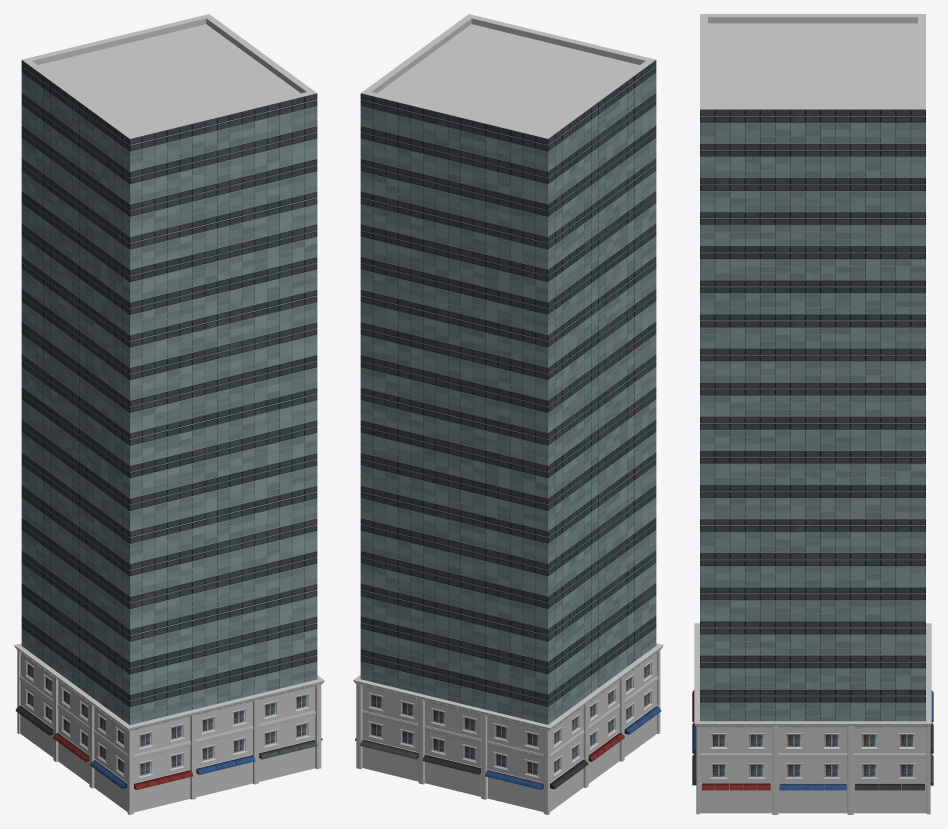
Rendered from High RIse Building 37.fbx.
The picture shows the model from 3 angles, left to right: view 1: azimuth 30°, elevation 25°; view 2: azimuth 150°, elevation 25°; view 3: azimuth 270°, elevation 25°; orthographic projection. The views are drawn at different scales.
Parts seen in each view (by area): view 1: Top, Part_1, Part_2, Base; view 2: Top, Part_1, Part_2, Base; view 3: Top, Part_1, Part_2, Base.
Boxes of the visible parts, x1=… form: Top: x1=21, y1=14, x2=317, y2=334; Part_1: x1=21, y1=256, x2=317, y2=530; Part_2: x1=21, y1=452, x2=317, y2=724; Base: x1=14, y1=643, x2=324, y2=814; Top: x1=360, y1=14, x2=656, y2=334; Part_1: x1=360, y1=256, x2=656, y2=530; Part_2: x1=360, y1=452, x2=656, y2=724; Base: x1=353, y1=643, x2=663, y2=814; Top: x1=700, y1=14, x2=925, y2=313; Part_1: x1=700, y1=314, x2=925, y2=518; Part_2: x1=700, y1=518, x2=925, y2=721; Base: x1=692, y1=623, x2=933, y2=814.
Bounding box in the file's own units: 2563 × 8250 × 2565.
